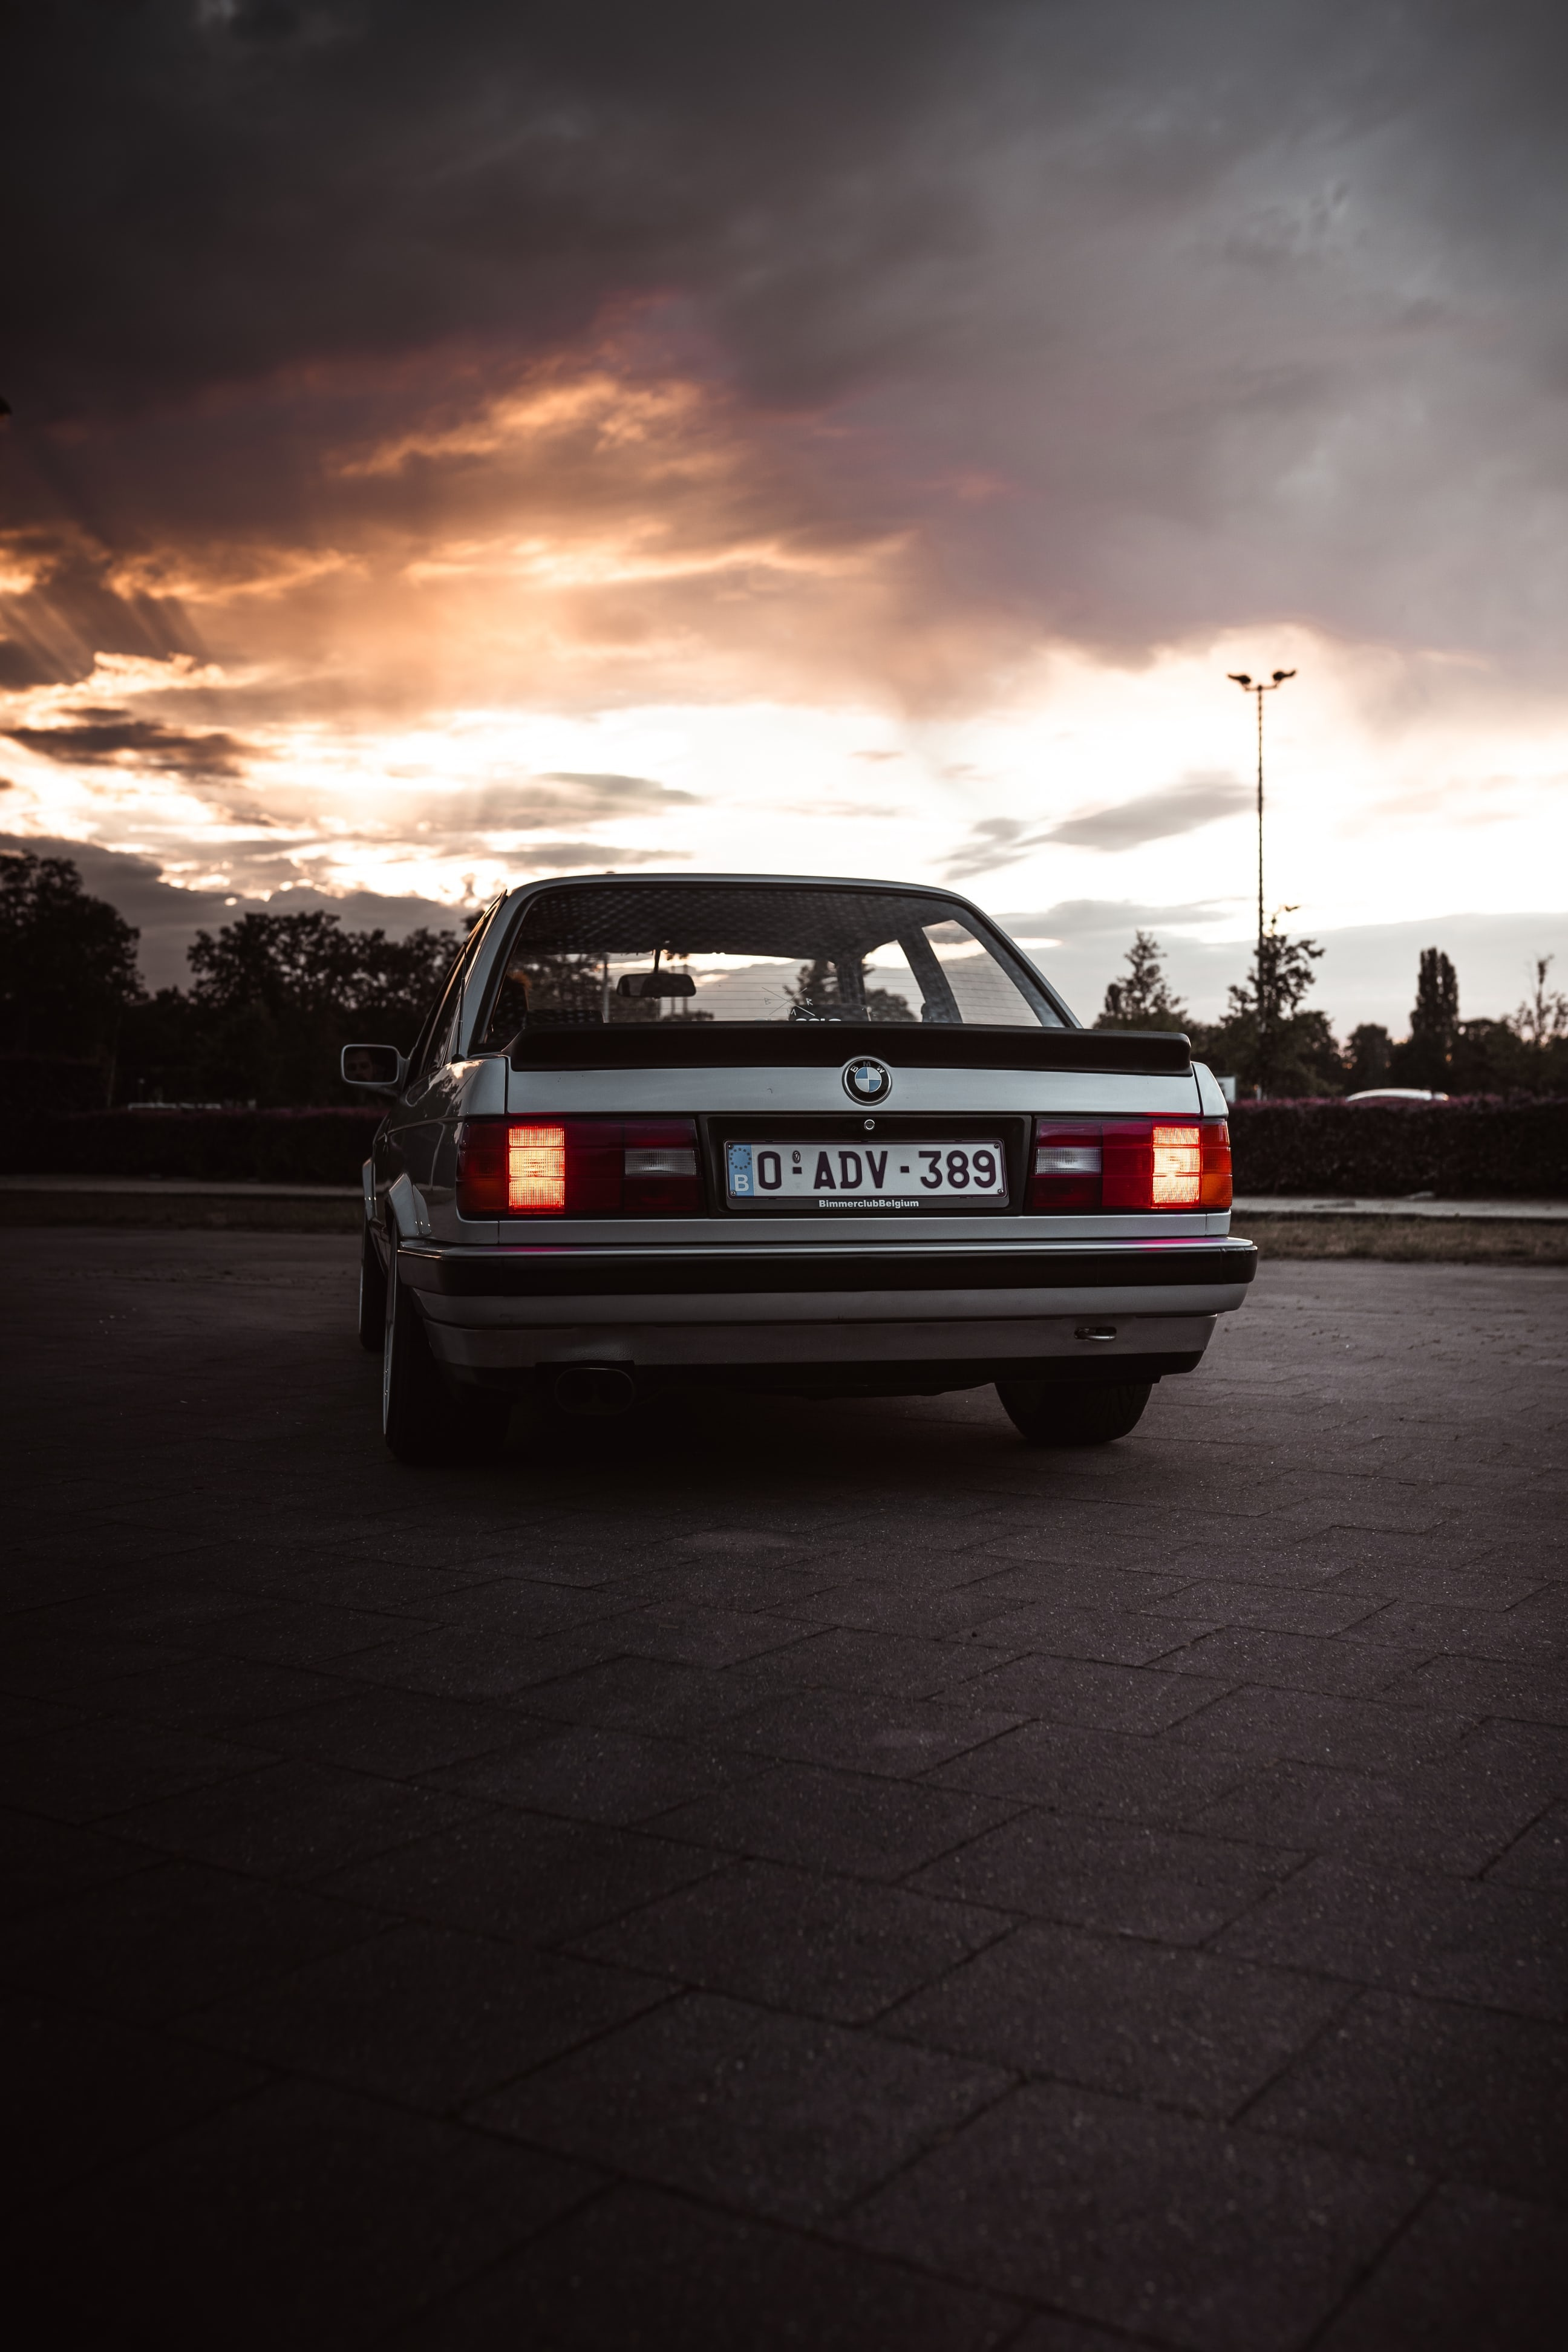plaka: (722, 1136, 1008, 1199)
